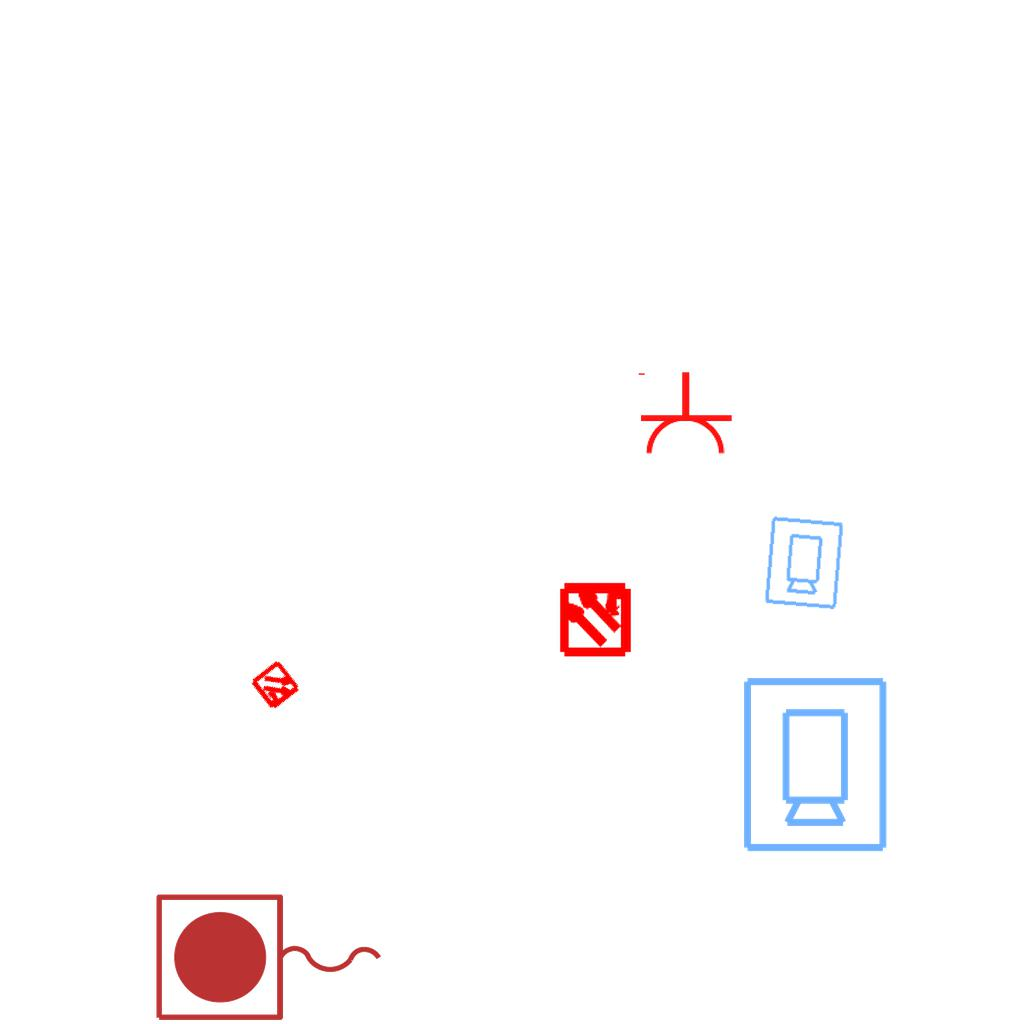KFO_Kamera_mit_Festobjektiv: (737, 673, 891, 855), (761, 513, 846, 612)
OT_Multisensormelder_(Kombination_RMO_WMD): (539, 561, 652, 674), (236, 646, 316, 726)
Schukosteckdose_einfach: (634, 370, 734, 457)
Zugtaster: (148, 887, 392, 1024)
